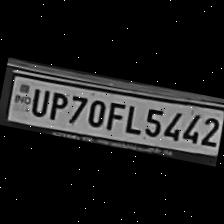0: (82, 95, 109, 129)
2: (196, 112, 222, 148)
4: (160, 106, 184, 142), (178, 109, 202, 145)
5: (138, 102, 166, 140)
7: (63, 90, 89, 126)
F: (102, 98, 127, 132)
L: (120, 100, 144, 136)
P: (44, 88, 70, 123)
U: (25, 84, 52, 118)
